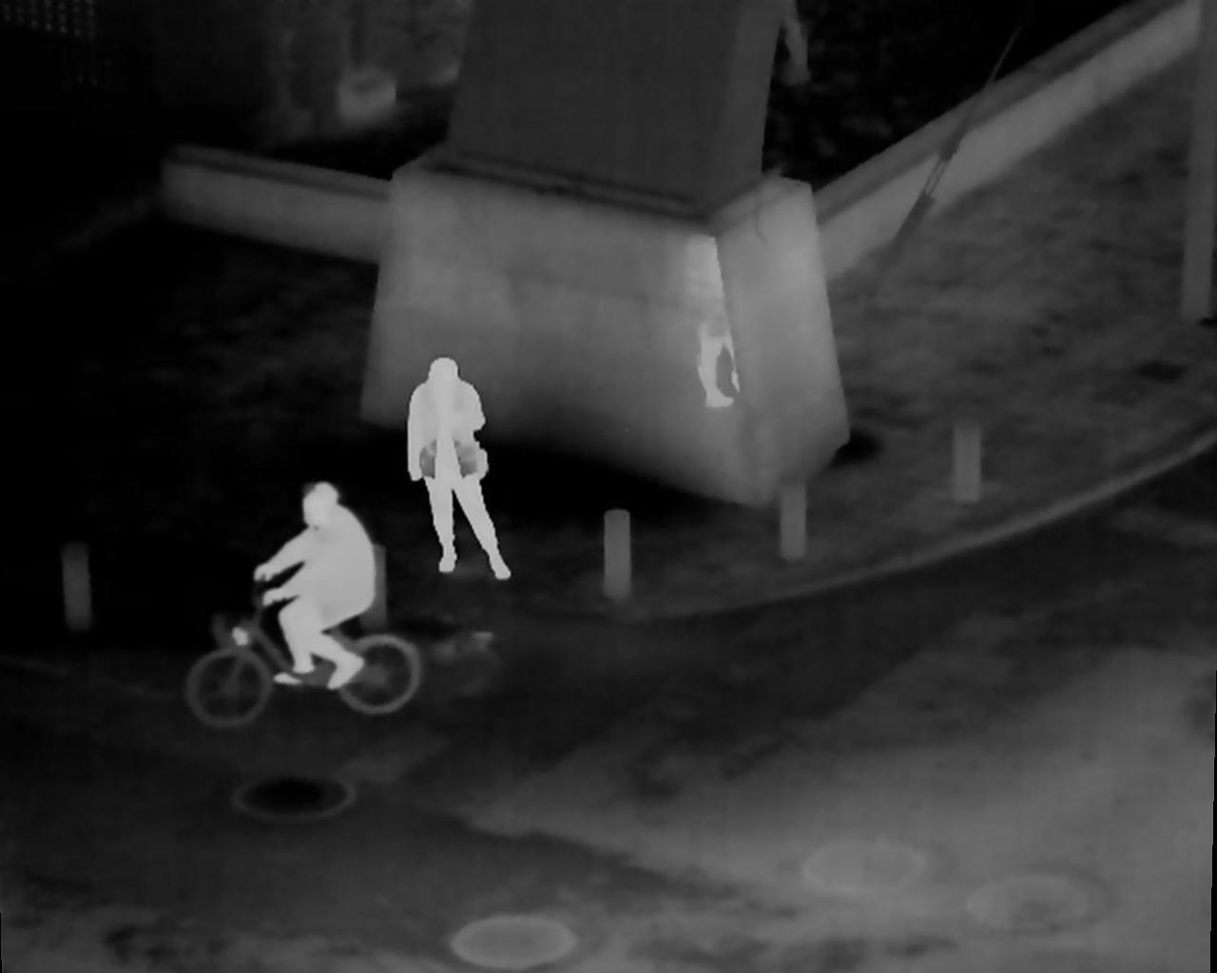person: (255, 480, 385, 684), (403, 356, 509, 581)
